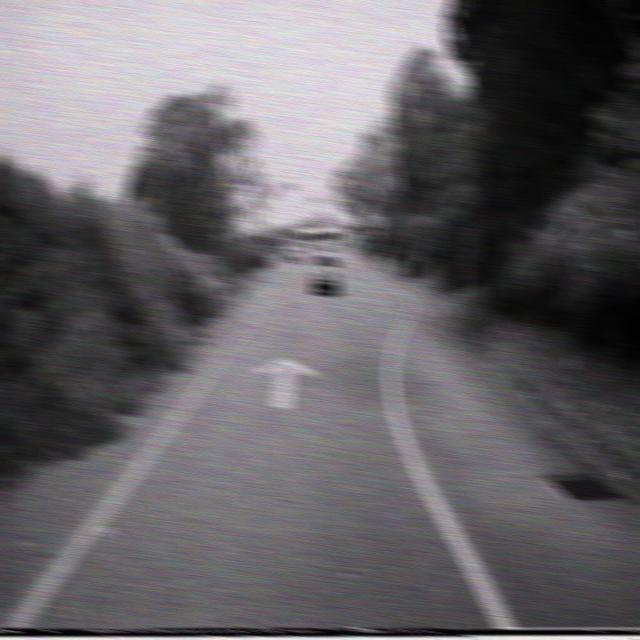pedestrianCrossing: (360, 199, 378, 223)
